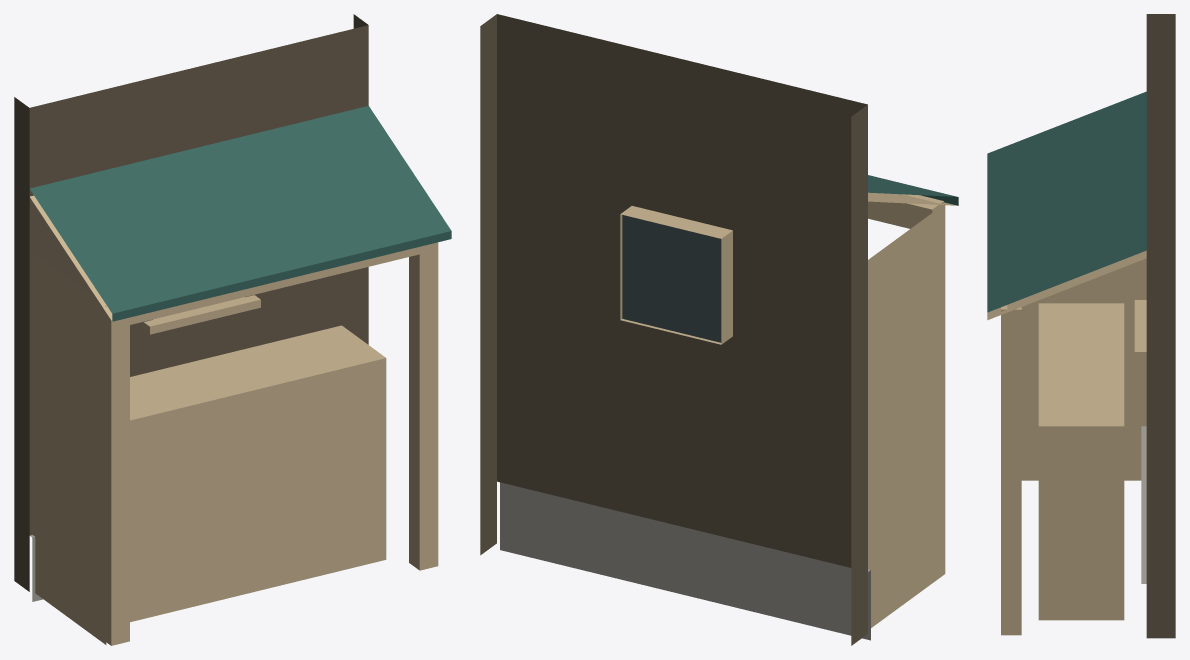
Rendered from base-stair3.fbx.
The picture shows the model from 3 angles, left to right: view 1: azimuth 30°, elevation 25°; view 2: azimuth 150°, elevation 25°; view 3: azimuth 270°, elevation 25°; orthographic projection. The views are drawn at different scales.
Parts seen in each view (by area): view 1: a2015/400/base-stair; view 2: a2015/400/base-stair; view 3: a2015/400/base-stair.
Boxes of the visible parts, bbox=[...] form: a2015/400/base-stair: bbox=[14, 14, 451, 645]; a2015/400/base-stair: bbox=[480, 14, 958, 645]; a2015/400/base-stair: bbox=[987, 14, 1175, 638].
Bounding box in the file's own units: 2.2 × 3.05 × 1.1.
